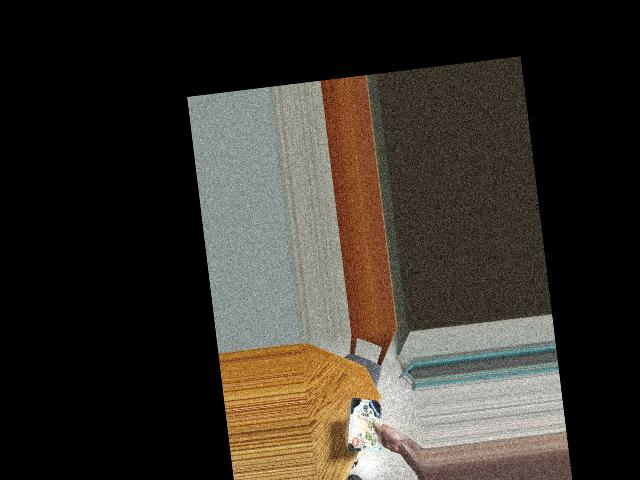cheese: (341, 395, 387, 453)
